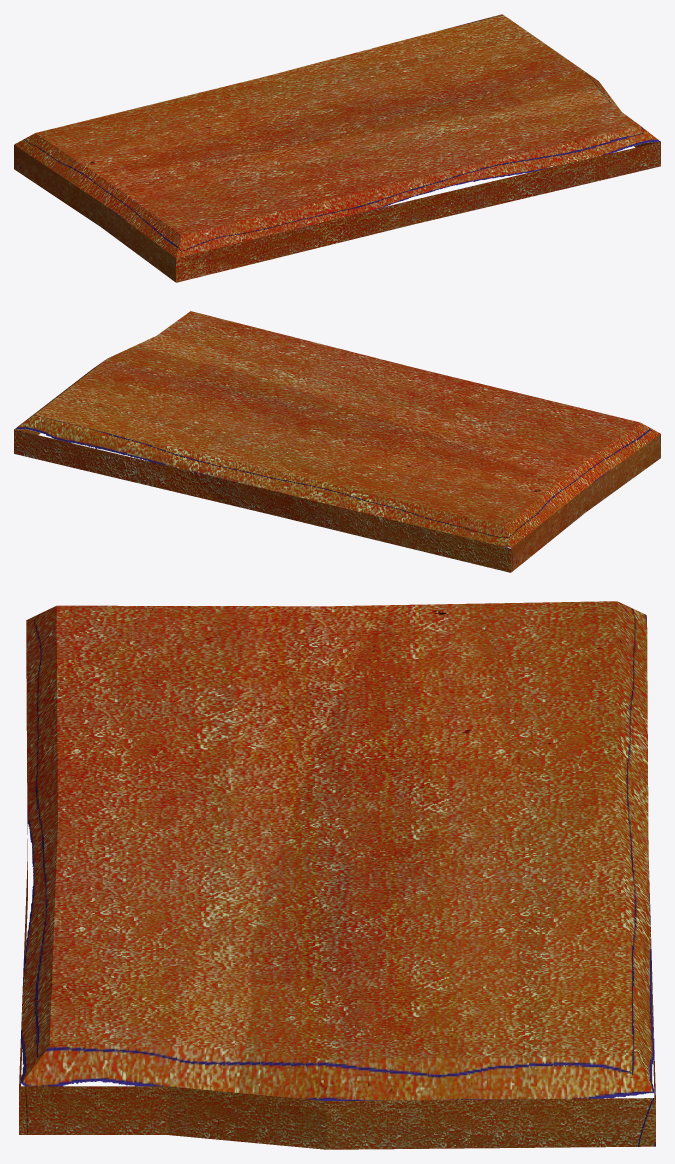
The model's file is brick_05.fbx.
3 renders of one model, top to bottom at view 1: azimuth 30°, elevation 25°; view 2: azimuth 150°, elevation 25°; view 3: azimuth 270°, elevation 25°, orthographic. The views are drawn at different scales.
Visible parts, largest first — view 1: ｂｒｉｃｋ＿０５; view 2: ｂｒｉｃｋ＿０５; view 3: ｂｒｉｃｋ＿０５.
Part boxes in pixels (left/top/right/bottom): ｂｒｉｃｋ＿０５: left=14, top=14, right=660, bottom=282; ｂｒｉｃｋ＿０５: left=14, top=311, right=660, bottom=572; ｂｒｉｃｋ＿０５: left=19, top=601, right=655, bottom=1149.
Bounding box in the file's own units: 465 × 33.89 × 258.
Materials: 1 (1 with a texture image).
